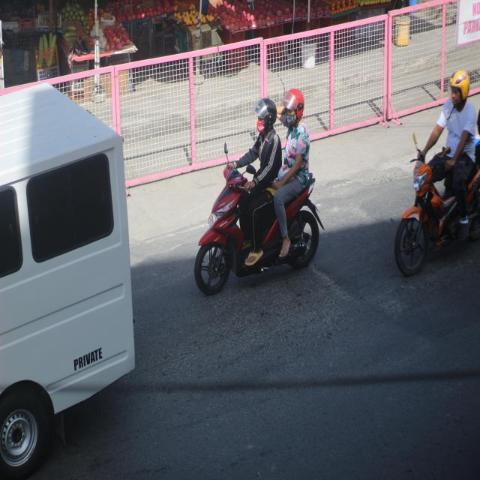motorcycle: (193, 88, 325, 297), (400, 73, 478, 269)
